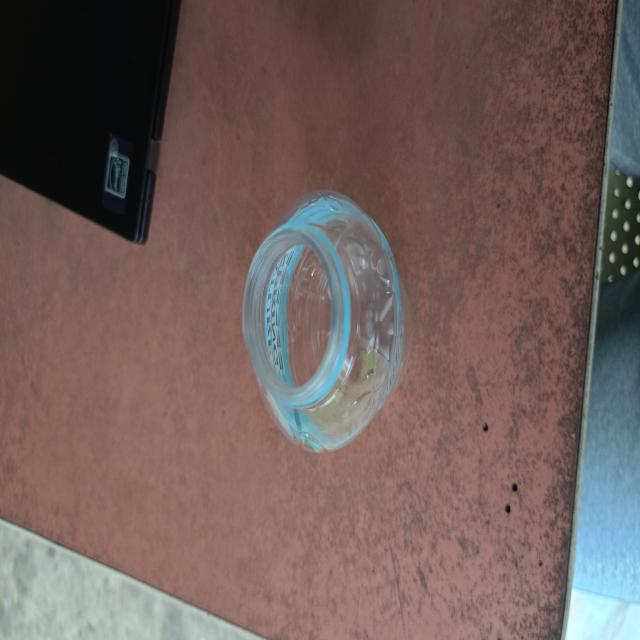Anorganik: (240, 185, 408, 459)
